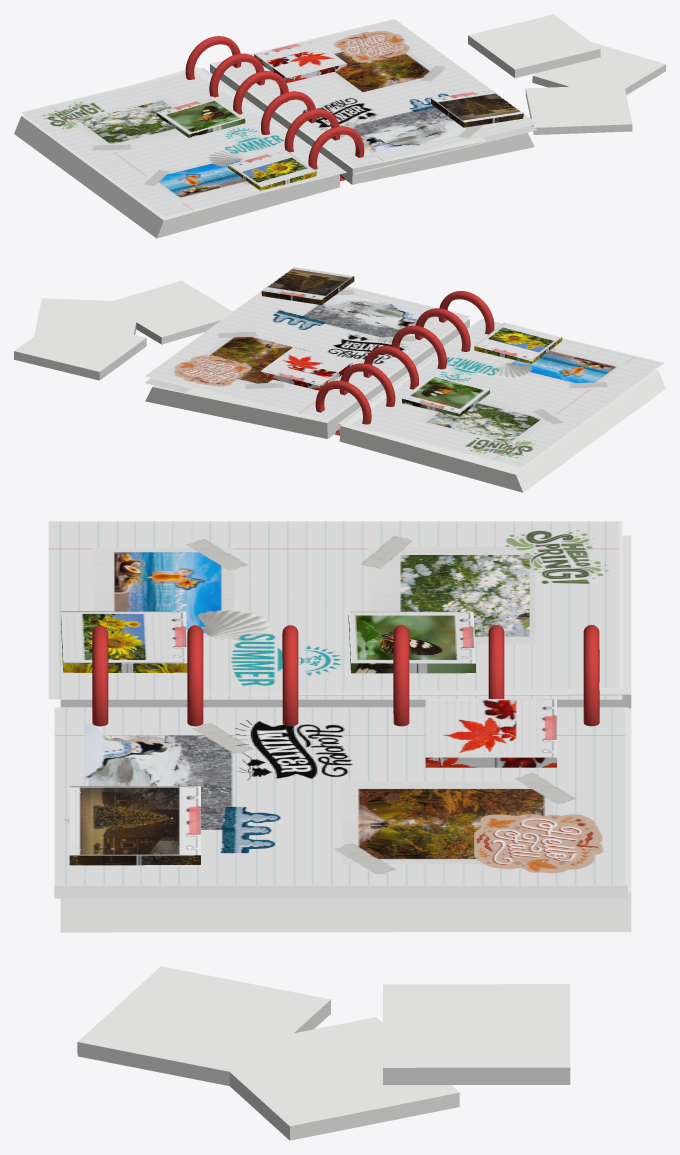
File: book.glb
The picture shows the model from 3 angles, top to bottom: view 1: azimuth 30°, elevation 25°; view 2: azimuth 150°, elevation 25°; view 3: azimuth 270°, elevation 25°; orthographic projection. The views are drawn at different scales.
Parts seen in each view (by area): view 1: 평면, 평면.002, Body104, Body82, Body84, Body97, Body91, Body83, Body100, Body99, Body102.001, Body102.002 (+1 smaller); view 2: 평면, 평면.002, Body104, Body82, Body91, Body97, Body84, Body83, Body100, Body99, Body102.002, Body102.001; view 3: 평면.002, 평면, Body91, Body82, Body84, Body83, Body99, Body97, Body100, 평면.001, Body102.001, Body102.002 (+1 smaller).
Part boxes in pixels (x1,y1,x2,y2): 평면: (21, 67, 346, 216); 평면.002: (212, 19, 537, 168); Body104: (14, 67, 340, 238); Body82: (468, 14, 600, 77); Body84: (525, 84, 632, 134); Body97: (185, 36, 364, 181); Body91: (210, 63, 534, 184); Body83: (532, 42, 665, 97); Body100: (254, 39, 346, 82); Body99: (431, 89, 523, 127); Body102.001: (156, 96, 245, 137); Body102.002: (228, 149, 316, 190); 평면: (338, 318, 663, 467); 평면.002: (144, 272, 469, 420); Body104: (339, 342, 665, 492); Body82: (14, 317, 146, 380); Body91: (145, 318, 469, 438); Body97: (315, 291, 494, 435); Body84: (106, 280, 232, 344); Body83: (34, 298, 140, 335); Body100: (260, 347, 352, 390); Body99: (261, 267, 354, 304); Body102.002: (474, 322, 562, 363); Body102.001: (402, 375, 489, 416); 평면.002: (54, 707, 627, 885); 평면: (48, 521, 622, 699); Body91: (60, 708, 631, 932); Body82: (383, 984, 570, 1084); Body84: (77, 966, 330, 1085); Body83: (219, 1017, 459, 1140); Body99: (69, 786, 200, 865); Body97: (92, 625, 599, 726); Body100: (425, 699, 556, 767); 평면.001: (54, 885, 627, 898); Body102.001: (348, 611, 475, 673); Body102.002: (61, 611, 187, 672).
Size of the model in its own units: 0.0826 by 0.0099 by 0.0368.
8 materials, 6 textured.
